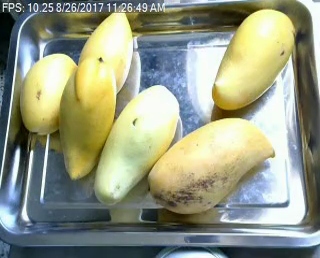Mango: (147, 118, 272, 214), (94, 84, 179, 204), (211, 8, 294, 110), (58, 58, 116, 180), (76, 5, 133, 92), (18, 55, 76, 137)
